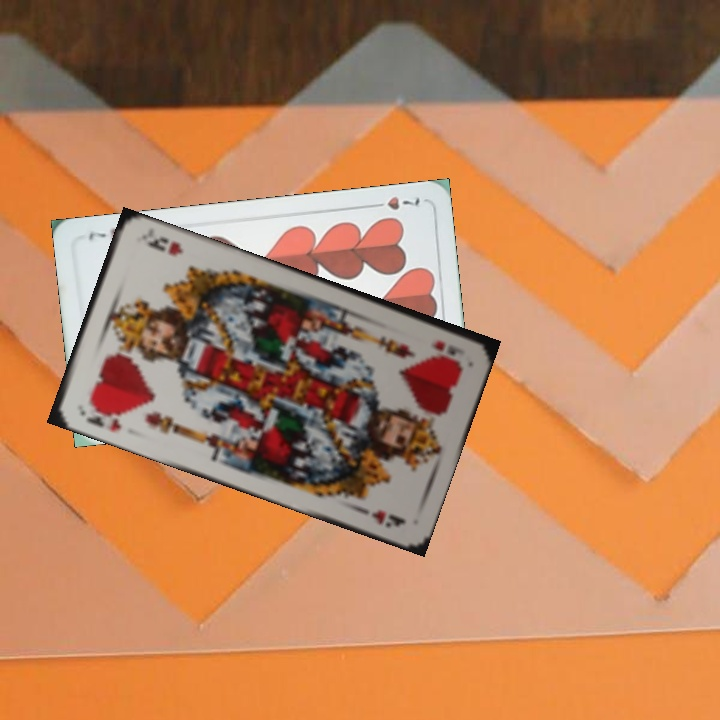H7: (366, 192, 423, 212)
HK: (76, 400, 124, 435), (427, 336, 467, 359)
